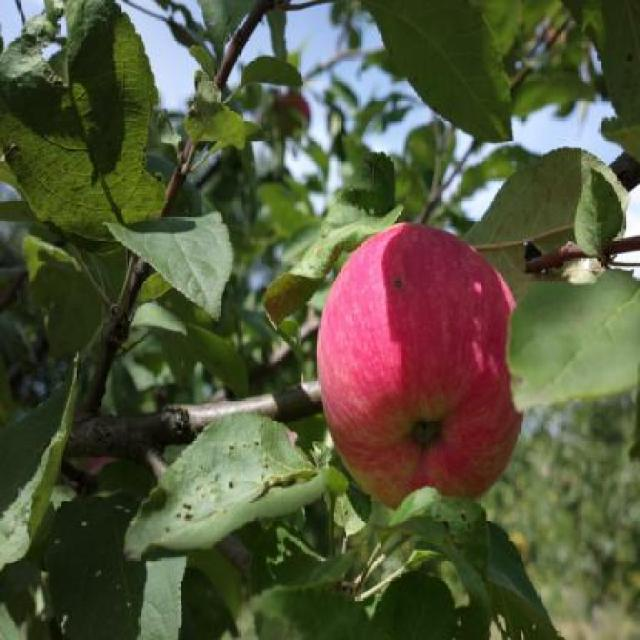Apple pie: (316, 212, 522, 512)
